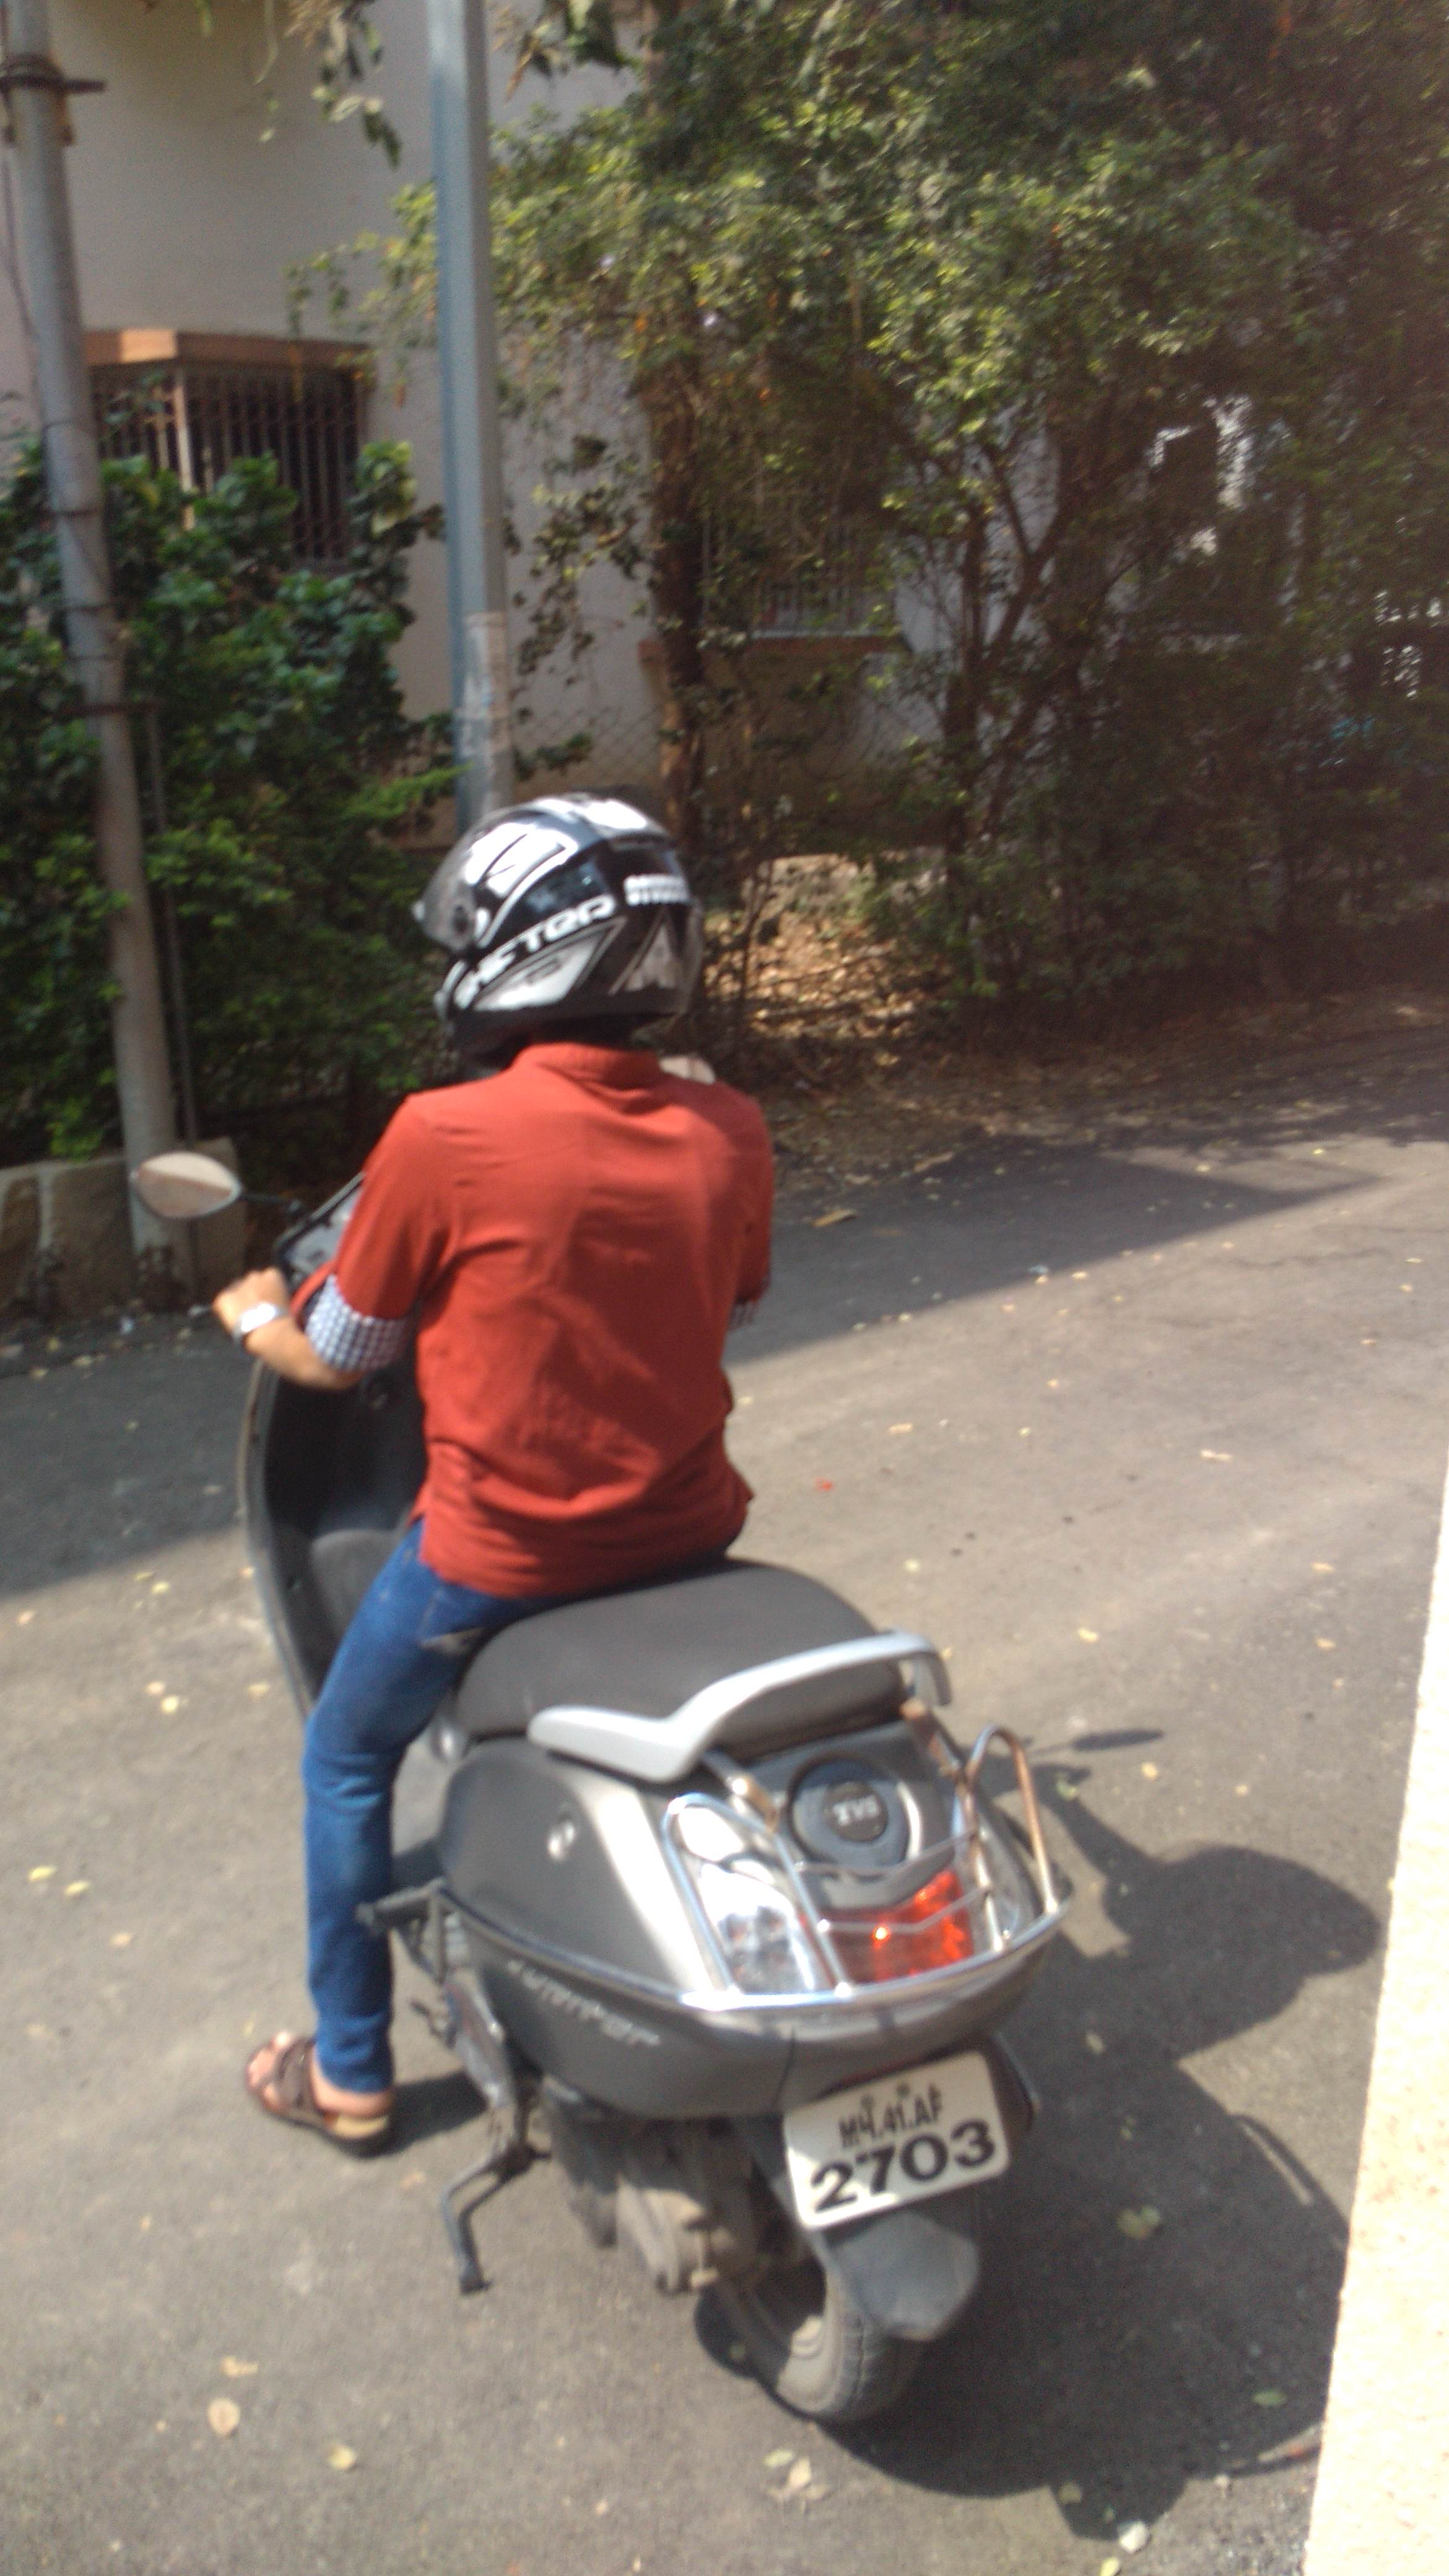helmet: (315, 771, 823, 1619)
